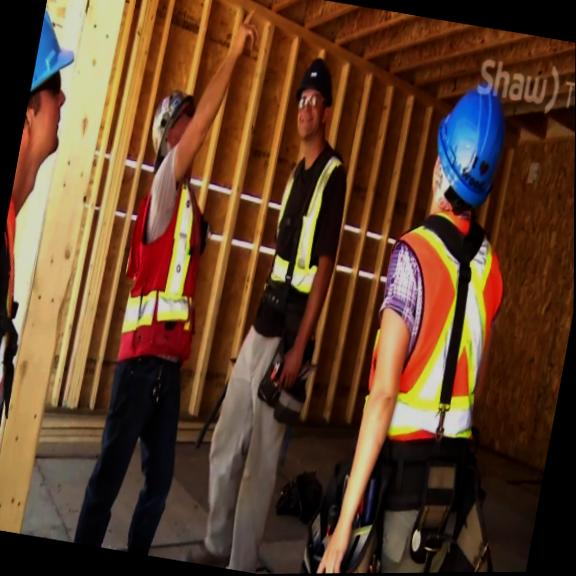safety_vest: (356, 204, 516, 452), (108, 172, 222, 370), (250, 136, 356, 341), (0, 183, 41, 526)
